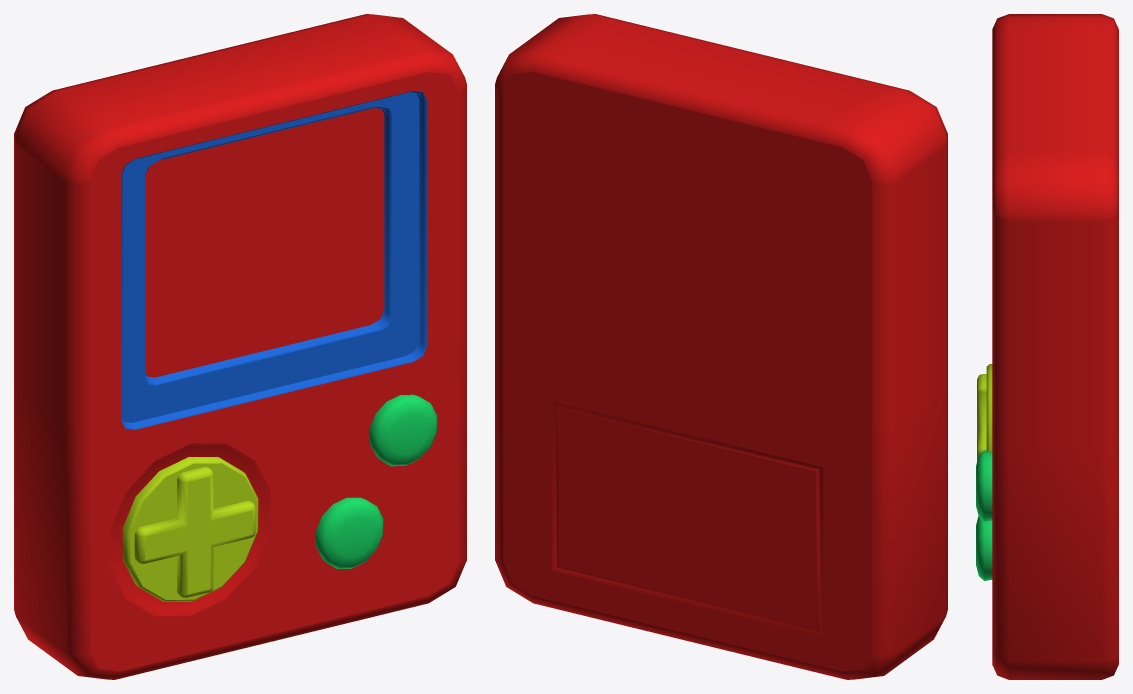
File: Gameboy.fbx
3 renders of one model, left to right at view 1: azimuth 30°, elevation 25°; view 2: azimuth 150°, elevation 25°; view 3: azimuth 270°, elevation 25°, orthographic. The views are drawn at different scales.
Visible parts, largest first — view 1: Cylinder.001; view 2: Cylinder.001; view 3: Cylinder.001.
Part boxes in pixels (bbox=[...]): Cylinder.001: bbox=[14, 14, 466, 679]; Cylinder.001: bbox=[495, 14, 947, 679]; Cylinder.001: bbox=[976, 14, 1118, 679].
Size of the model in its own units: 128 by 169 by 42.49.
